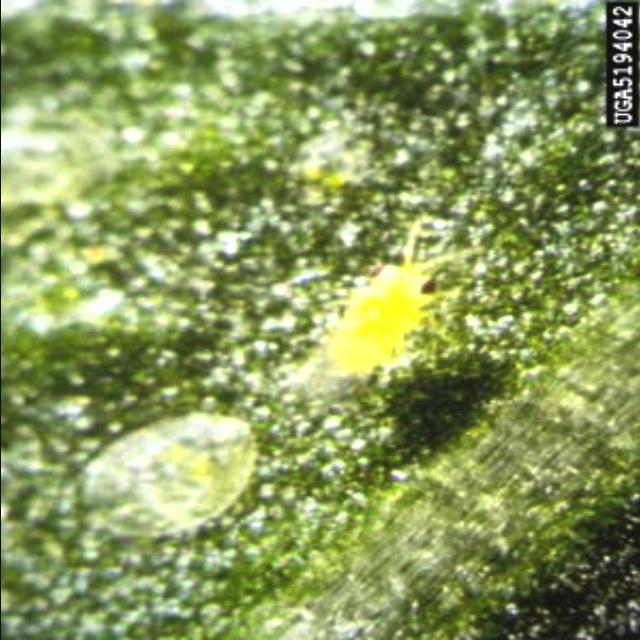Silverleaf whitefly: (282, 208, 510, 398), (56, 378, 268, 564)
